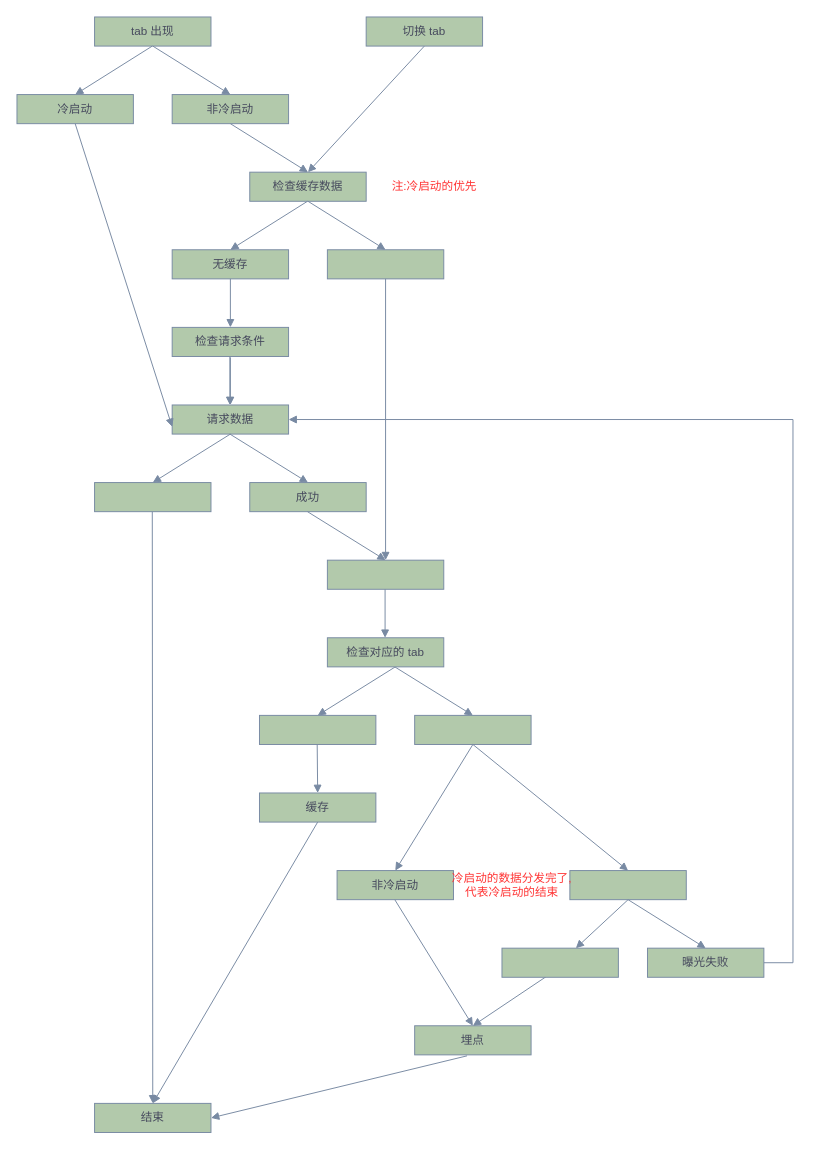
The diagram is 818 pixels wide and 1149 high, and some of its shapes have lost their labels. The box of each missing label's shape, as (x1, y1, x2, y2) in pixels:
不匹配: (259, 714, 376, 744)
分发数据: (326, 559, 444, 589)
匹配当前 tab: (414, 714, 531, 744)
失败: (94, 482, 211, 512)
是冷启动: (569, 870, 686, 900)
曝光成功: (501, 947, 618, 977)
有缓存: (326, 249, 444, 279)
